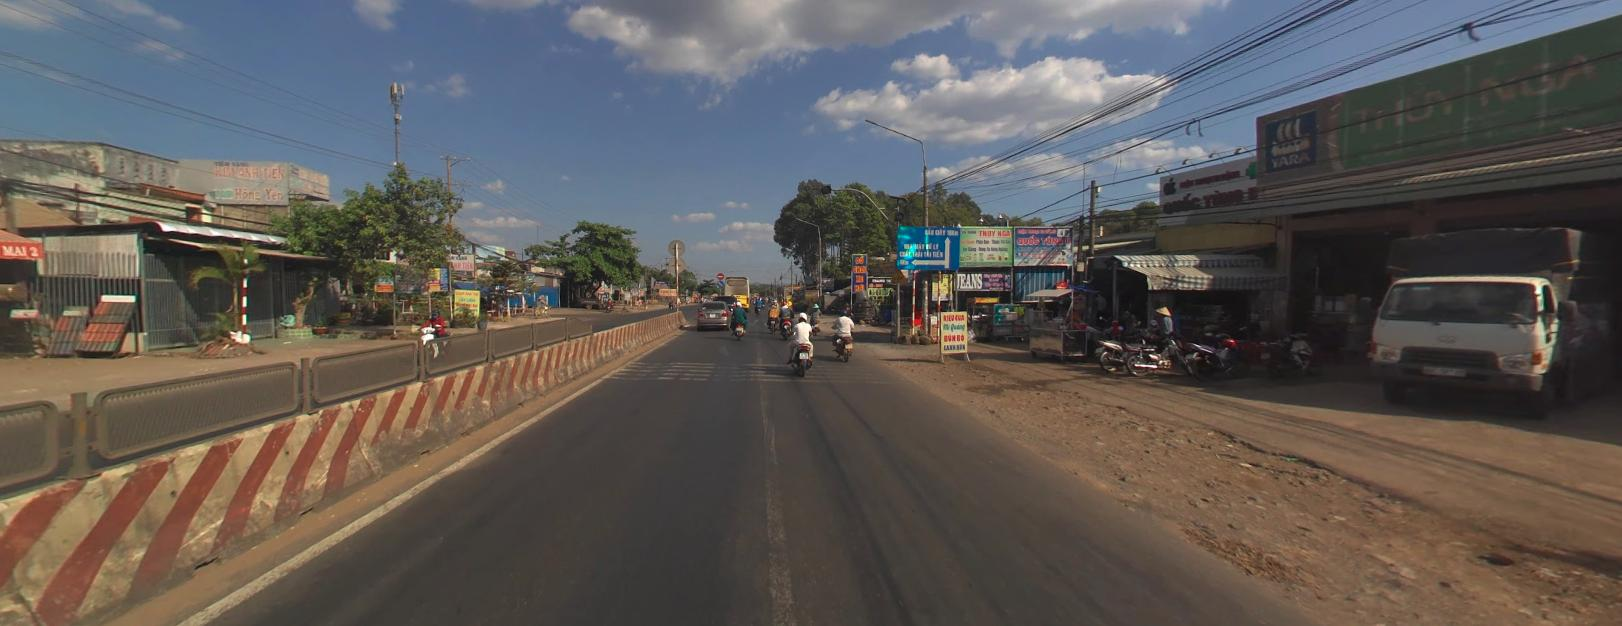Cam nguoc chieu: (716, 270, 723, 277)
Hieu lenh: (716, 279, 723, 285)
